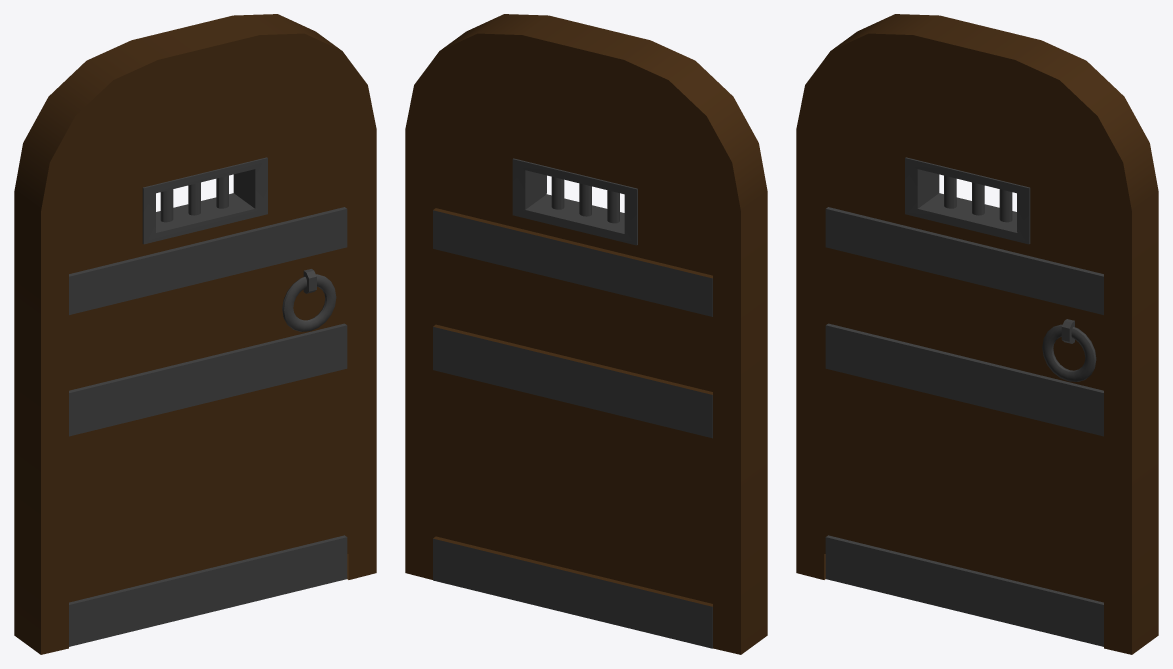
File: door.fbx
3 views of the same model, side by side, from view 1: azimuth 30°, elevation 25°; view 2: azimuth 150°, elevation 25°; view 3: azimuth 330°, elevation 25° (orthographic).
Visible parts, largest first — view 1: Door, Door Frame; view 2: Door, Door Frame; view 3: Door, Door Frame.
Boxes of the visible parts, left/top/right/bottom form: Door: left=69, top=62, right=347, bottom=646; Door Frame: left=14, top=14, right=376, bottom=654; Door: left=433, top=62, right=712, bottom=648; Door Frame: left=405, top=14, right=767, bottom=654; Door: left=825, top=62, right=1103, bottom=646; Door Frame: left=796, top=14, right=1158, bottom=654.
Size of the model in its own units: 159 by 23.22 by 256.
